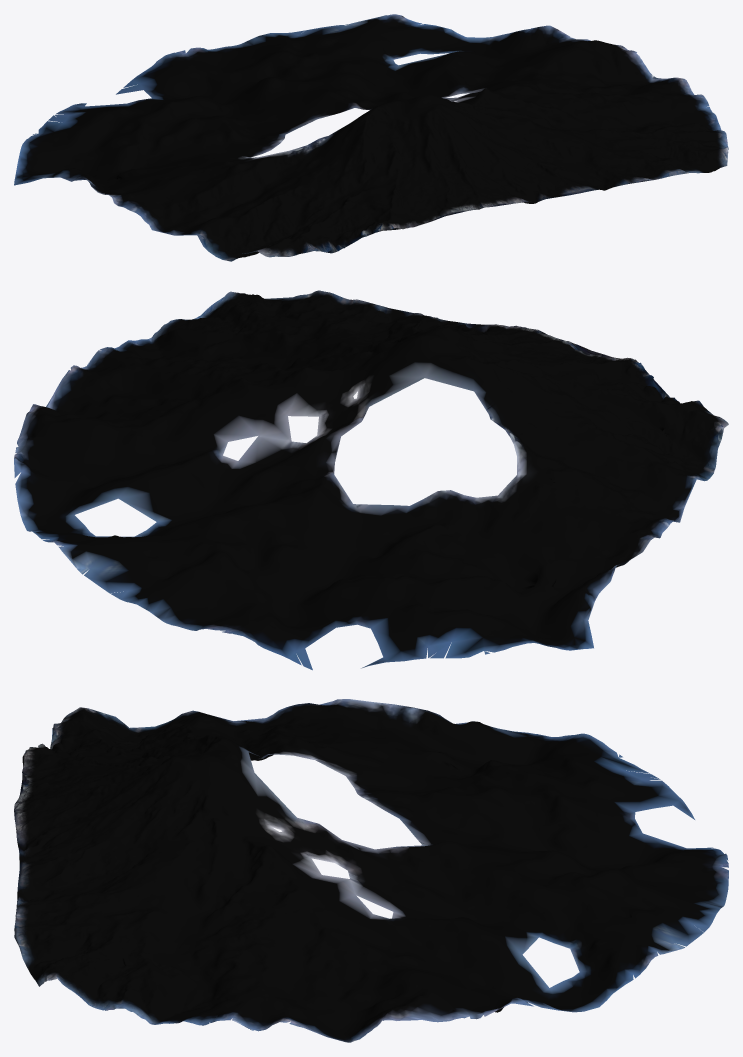
The model's file is mountain.glb.
3 renders of one model, top to bottom at view 1: azimuth 30°, elevation 25°; view 2: azimuth 150°, elevation 25°; view 3: azimuth 270°, elevation 25°, orthographic. The views are drawn at different scales.
Visible parts, largest first — view 1: Mountain; view 2: Mountain; view 3: Mountain.
Part boxes in pixels (left/top/right/bottom): Mountain: left=14, top=14, right=728, bottom=261; Mountain: left=14, top=290, right=728, bottom=670; Mountain: left=14, top=699, right=728, bottom=1042.
Size of the model in its own units: 2.93 by 0.6086 by 2.61.
Materials: 1 (1 with a texture image).
